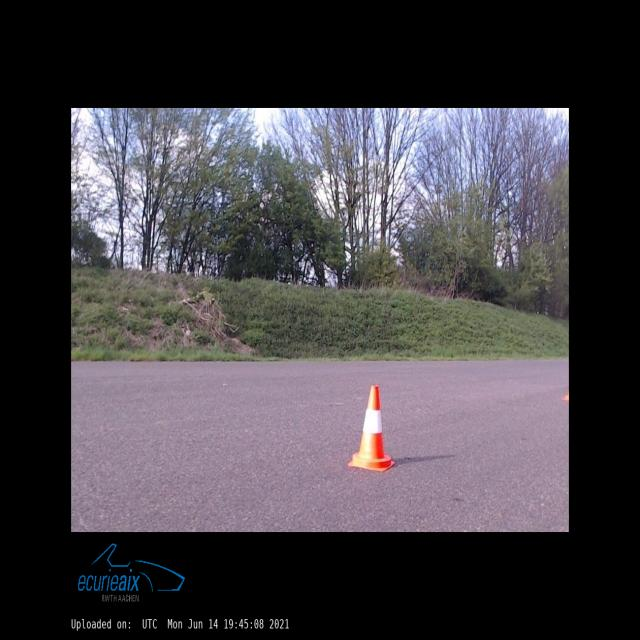orange_cone: (348, 385, 394, 471)
